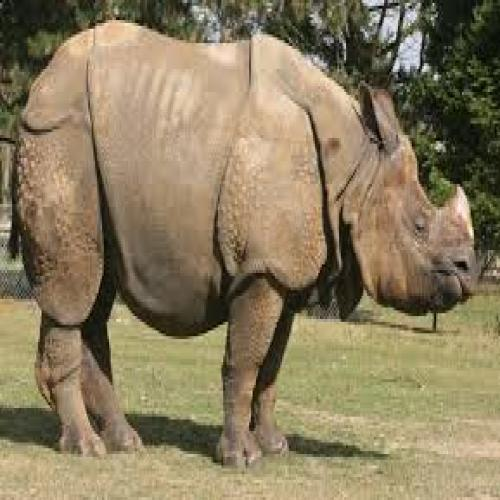rhino-endangered: (9, 25, 479, 465)
